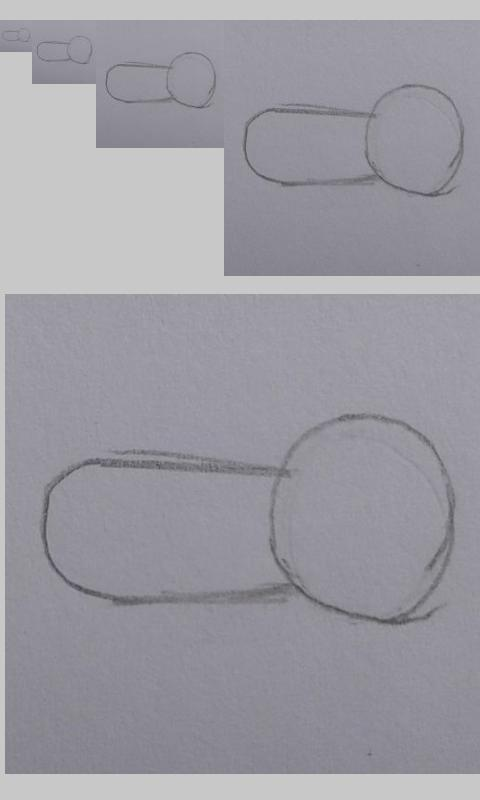switch: (39, 411, 456, 627), (243, 84, 466, 197), (104, 51, 217, 109), (36, 35, 93, 65), (2, 28, 31, 43)
